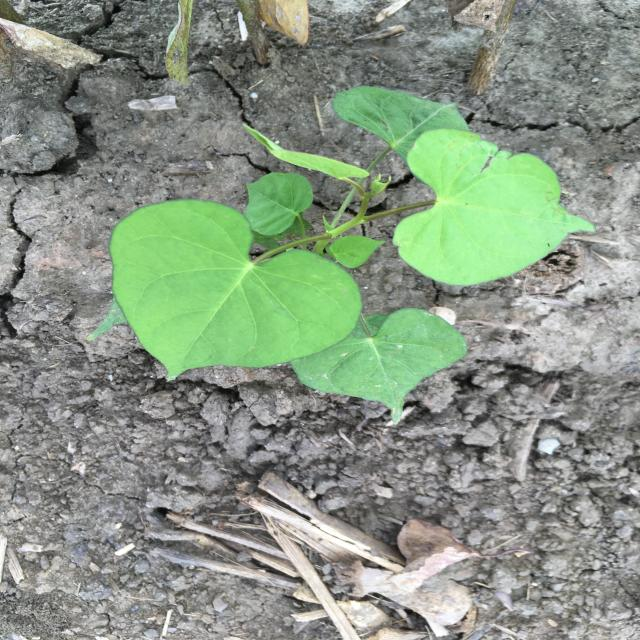MorningGlory: (86, 86, 596, 424)
